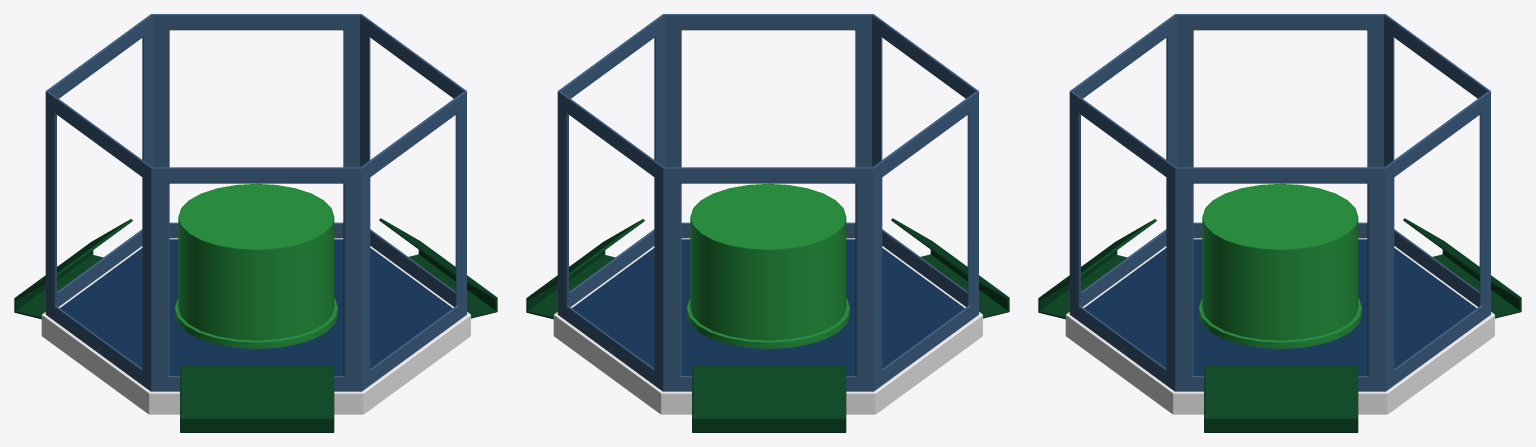
Rendered from ApolloCommand_Display_MM001.fbx.
3 views of the same model, side by side, from view 1: azimuth 30°, elevation 25°; view 2: azimuth 150°, elevation 25°; view 3: azimuth 270°, elevation 25° (orthographic).
Visible parts, largest first — view 1: ApolloCommand_Display_MM001; view 2: ApolloCommand_Display_MM001; view 3: ApolloCommand_Display_MM001.
Part boxes in pixels (<box>): ApolloCommand_Display_MM001: <box>14,14,497,432</box>; ApolloCommand_Display_MM001: <box>526,14,1009,432</box>; ApolloCommand_Display_MM001: <box>1038,14,1521,432</box>.
Size of the model in its own units: 626 by 402 by 719.
